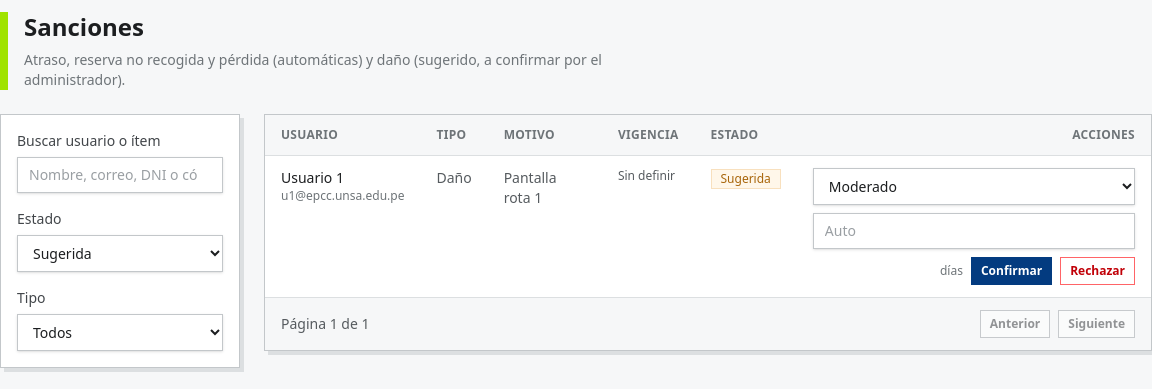
SanctionsPage › no permite confirmar con días inválidos
The image size is (1152, 389).
Type "0" into the number field named "Días de suspensión para Usuario 1" at (974, 231), box [813, 213, 1135, 249]
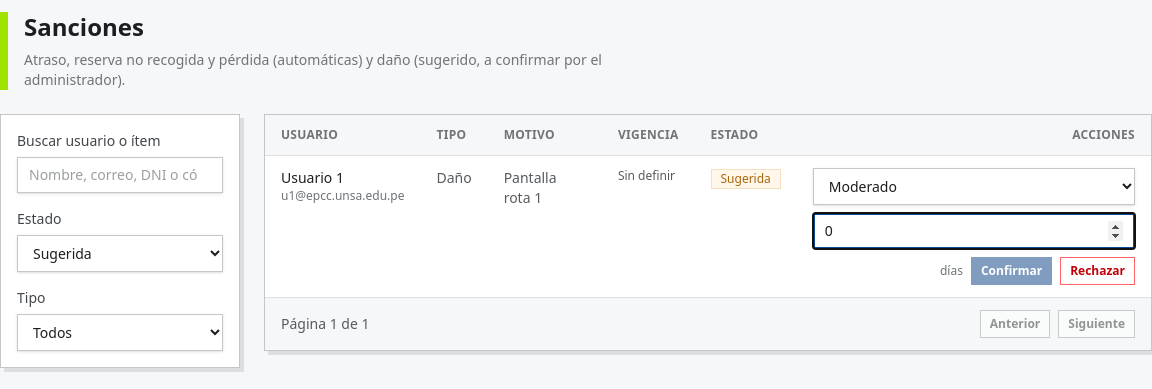
Result: the button "Confirmar" is disabled at [971, 257, 1052, 285]
